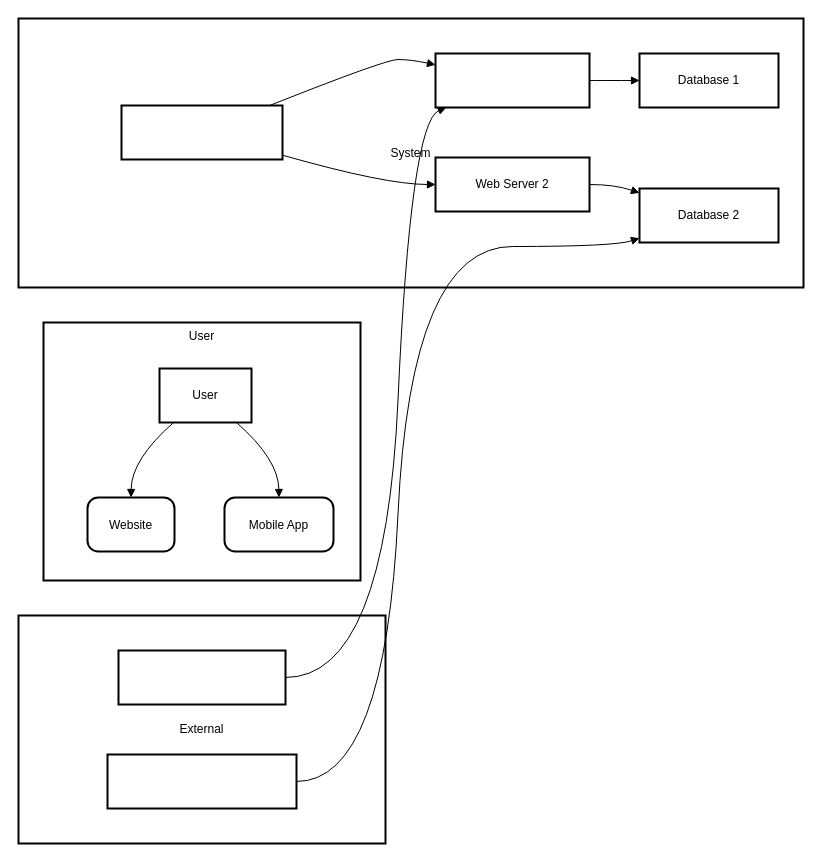
Image size: 821x861. Some labels were removed from this diagram. The shapes that lost their labels are listed below. From the top down, each one's centre as x and y in pixels, then its label:
At [512,80]: "Web Server 1".
At [201,132]: "Load Balancer".
At [201,677]: "Third Party API".
At [201,781]: "Payment Gateway".
